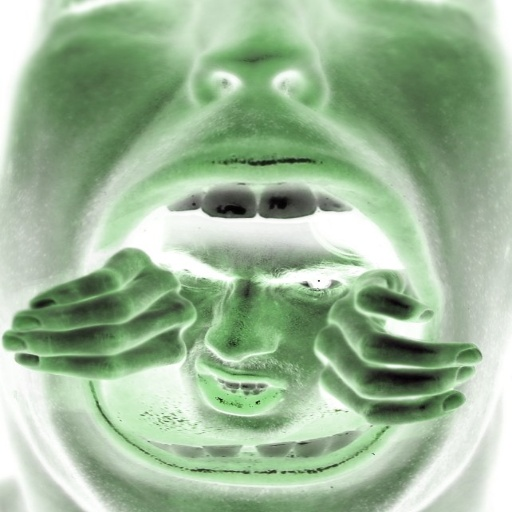hand: (311, 265, 482, 423), (0, 244, 196, 380)
